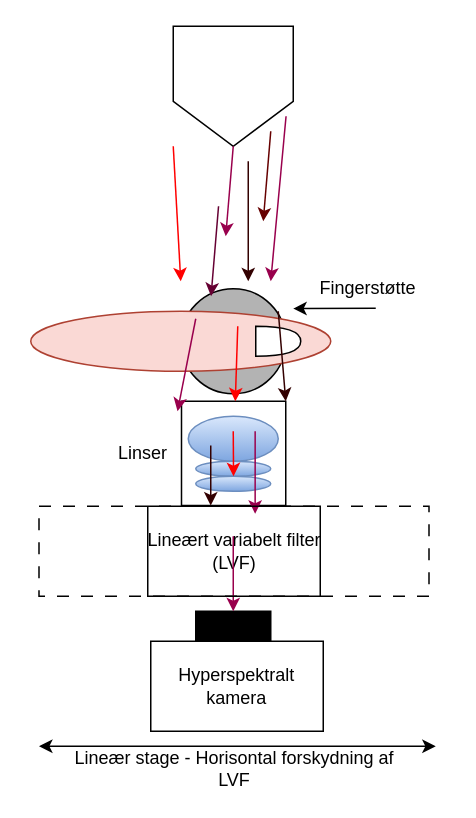
Some shapes in this 476 by 818 pixel diagram are drawn without their labels. Here are the shapes that lost their labels. From the top down, the centre of each, then its label:
At (x=232, y=85): "Glo-Bar".
At (x=180, y=340): "Finger".
